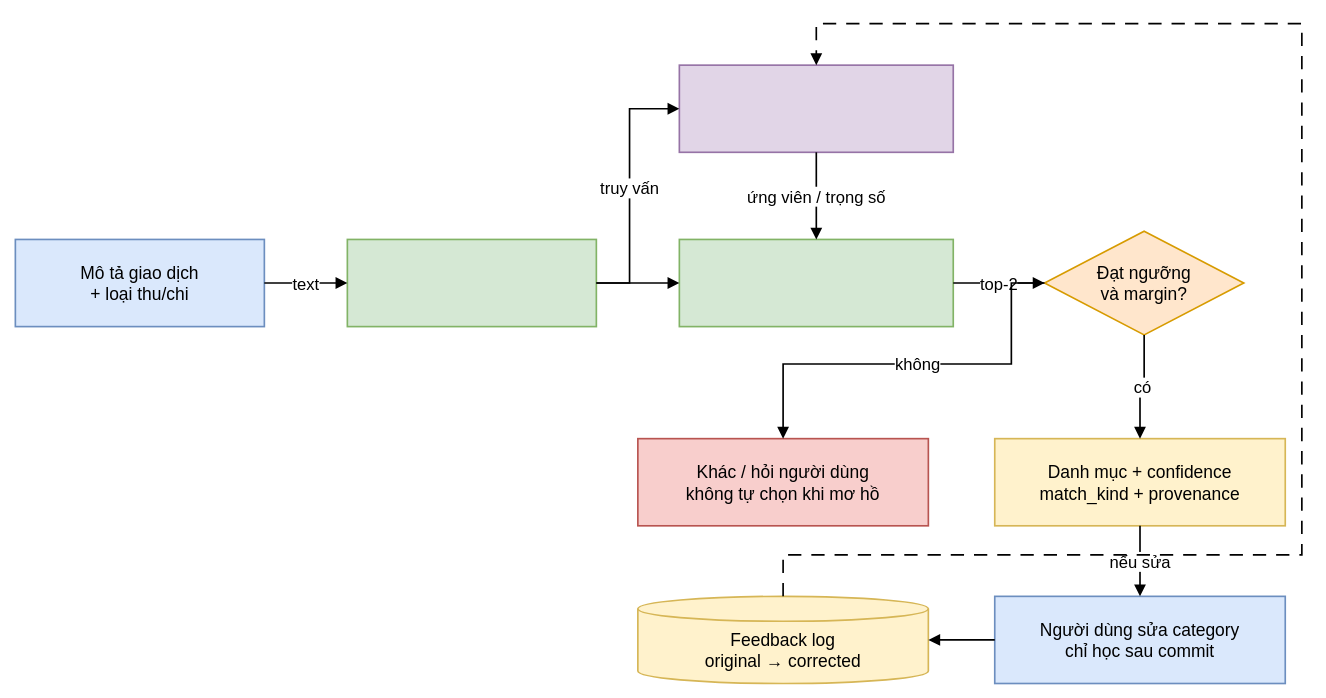
Some shapes in this 1326 by 698 pixel diagram are drawn without their labels. Each missing label, with the centre of its shape:
"Chuẩn hóa chuỗi bỏ dấu • token hóa" belongs at [471,282].
"Correction retrieval exact/fuzzy lịch sử" belongs at [816,108].
"Matcher exact → alias → fuzzy" belongs at [816,282].
